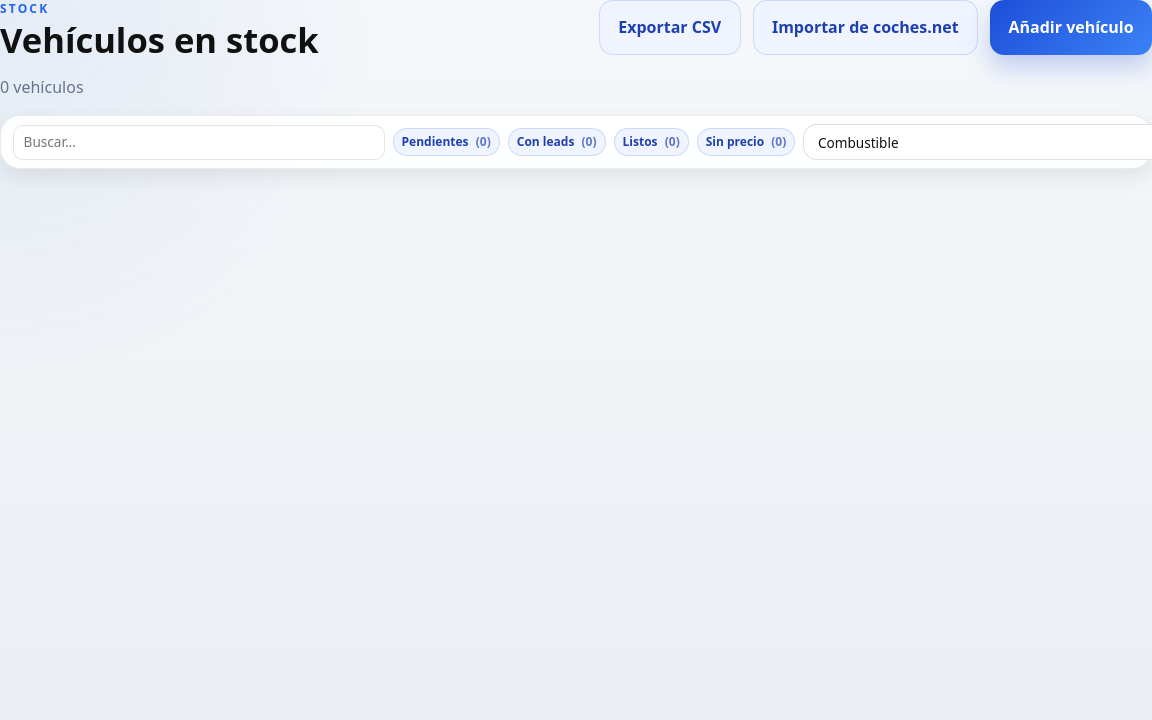
Test: StockList — add vehicle form › opens ConfirmDialog (not window.confirm) when cancelling a dirty add form
This screenshot has width=1152, height=720.
Click the button "Añadir vehículo" at (1071, 27), box [990,0,1151,55]
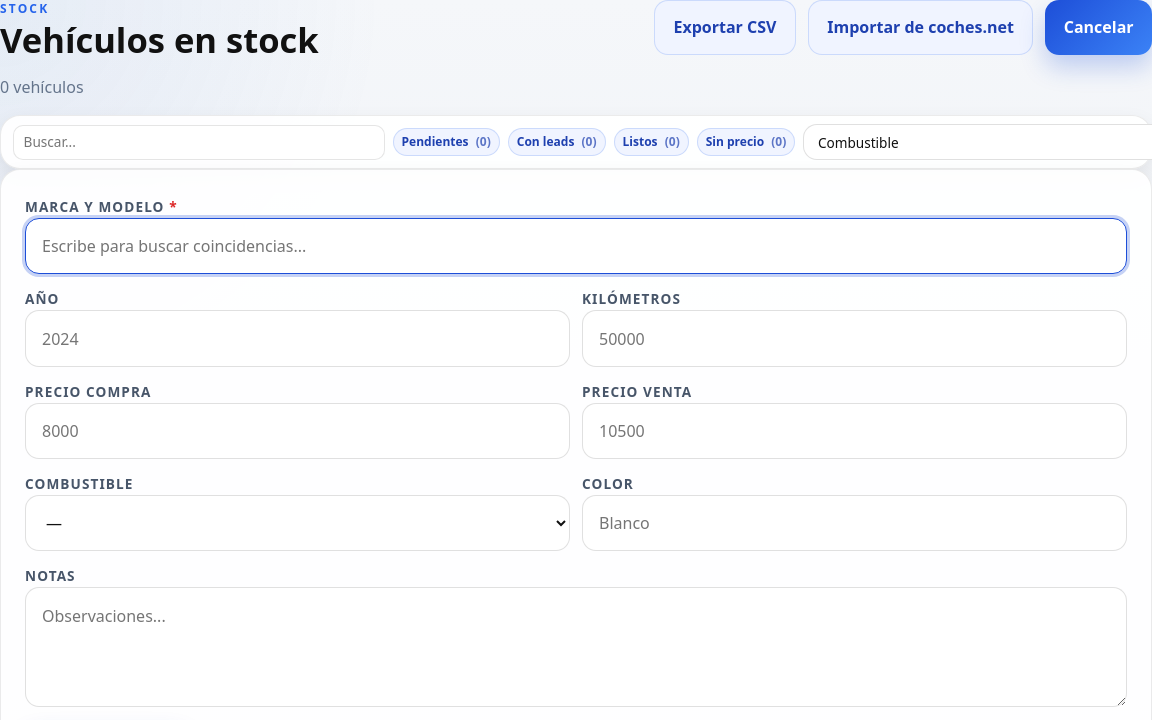
Type "Seat" into the field with placeholder "Escribe para buscar coincidencias..." at (576, 246), box [25,218,1127,274]
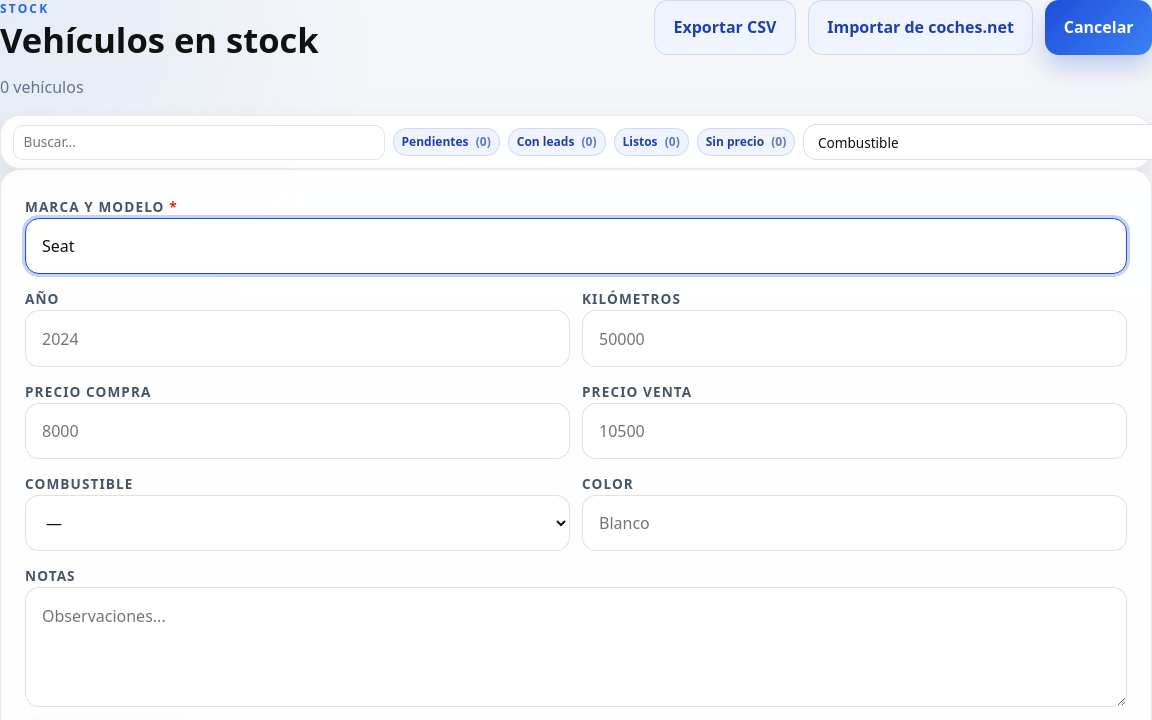
Click the button "Cancelar" at (1099, 27), box [1045,0,1151,55]
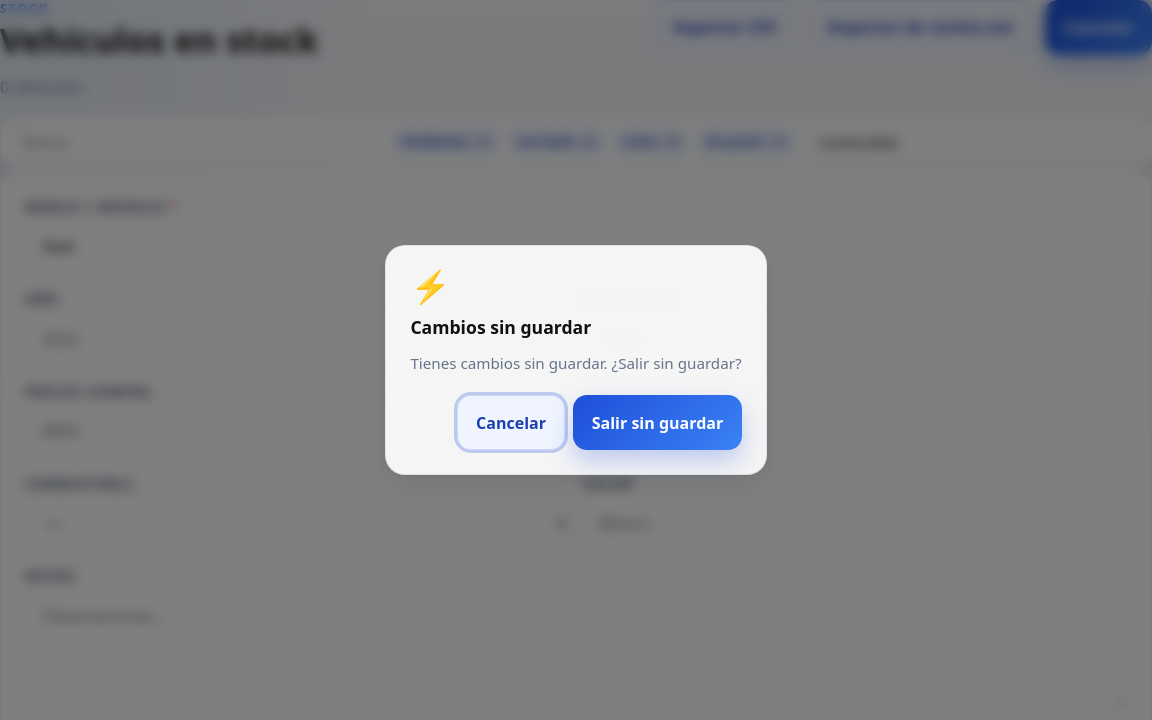
Expected: the dialog is shown
Expected: the heading "Cambios sin guardar" is shown, [410,315,591,339]
Expected: the button "Salir sin guardar" is shown, [573,395,742,450]
